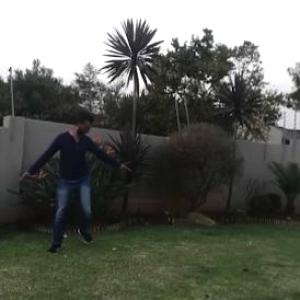land: (14, 100, 151, 267)
